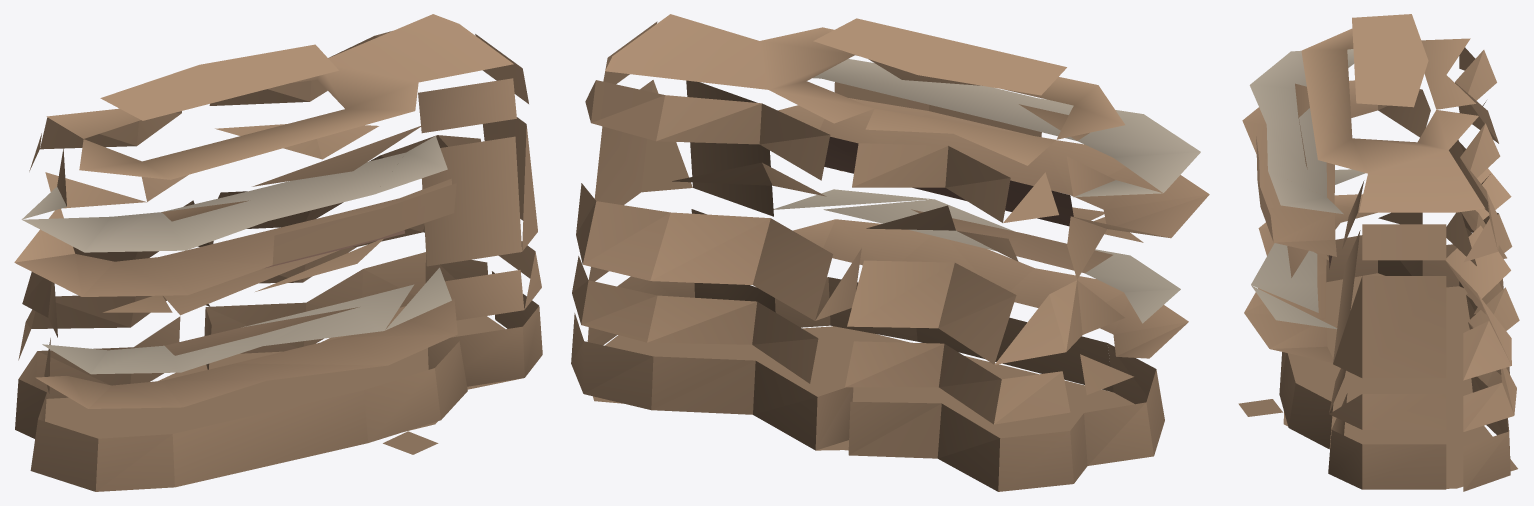
Rendered from outcrop.lod.glb.
The picture shows the model from 3 angles, left to right: view 1: azimuth 30°, elevation 25°; view 2: azimuth 150°, elevation 25°; view 3: azimuth 270°, elevation 25°; orthographic projection. The views are drawn at different scales.
Visible parts, largest first — view 1: outcrop.001; view 2: outcrop.001; view 3: outcrop.001.
Part boxes in pixels (x1,y1,x2,y2): outcrop.001: [14, 14, 542, 491]; outcrop.001: [571, 14, 1209, 491]; outcrop.001: [1238, 14, 1519, 491].
Size of the model in its own units: 5.7 by 3.5 by 3.
